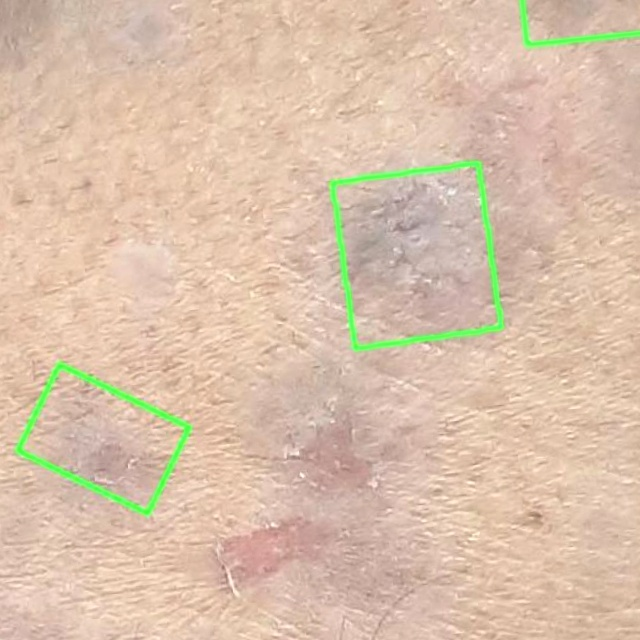Contact Dermatitis: (332, 163, 500, 348), (17, 365, 188, 513)
